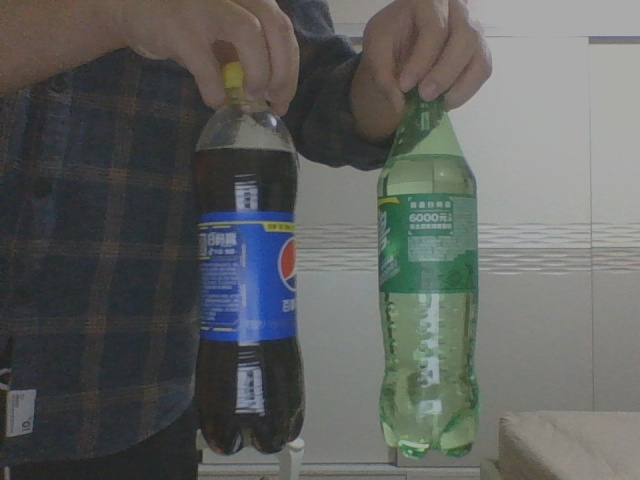Cola: (192, 61, 307, 454)
Sprite: (376, 74, 480, 460)
